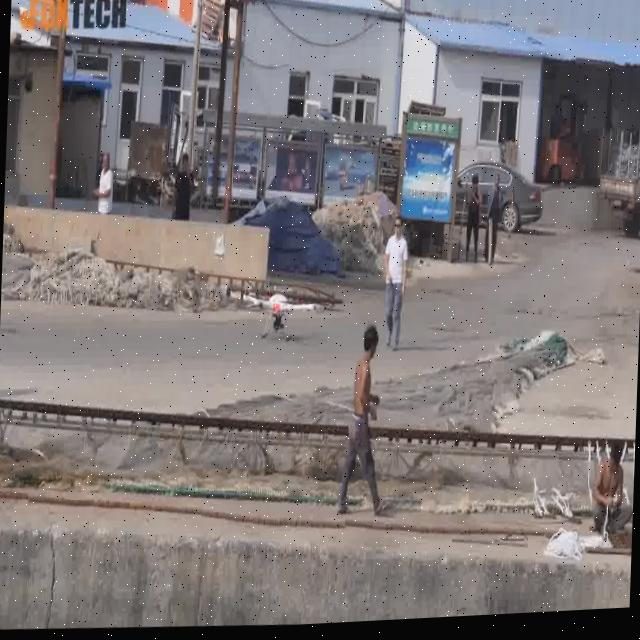drone: (236, 285, 322, 349)
